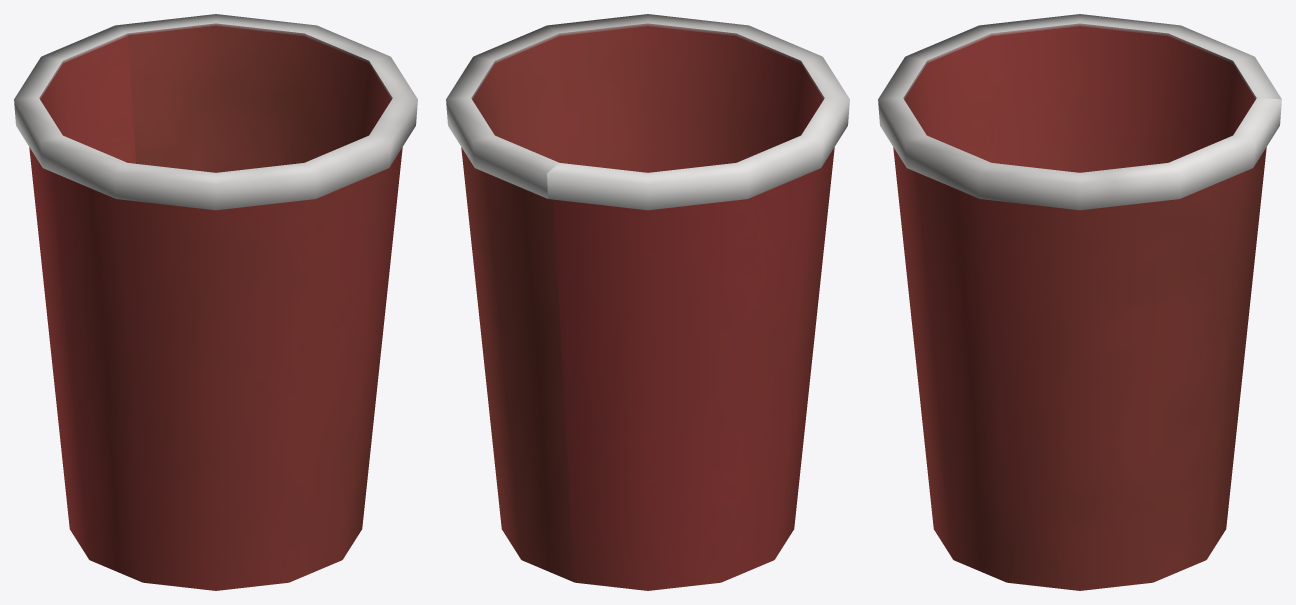
Rendered from verre_hopital.fbx.
The picture shows the model from 3 angles, left to right: view 1: azimuth 30°, elevation 25°; view 2: azimuth 150°, elevation 25°; view 3: azimuth 270°, elevation 25°; orthographic projection.
Visible parts, largest first — view 1: verre_hopital; view 2: verre_hopital; view 3: verre_hopital.
Part boxes in pixels (x1,y1,x2,y2): verre_hopital: (14,14,417,590); verre_hopital: (446,14,849,590); verre_hopital: (878,14,1281,590).
Bounding box in the file's own units: 0.095 × 0.1119 × 0.095.
1 material, 1 textured.
